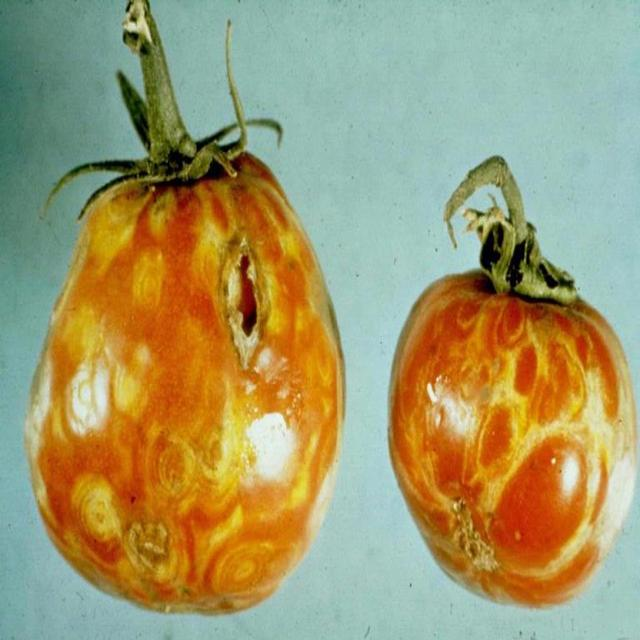Spotted wilt Virus Fruit: (126, 113, 273, 233)
